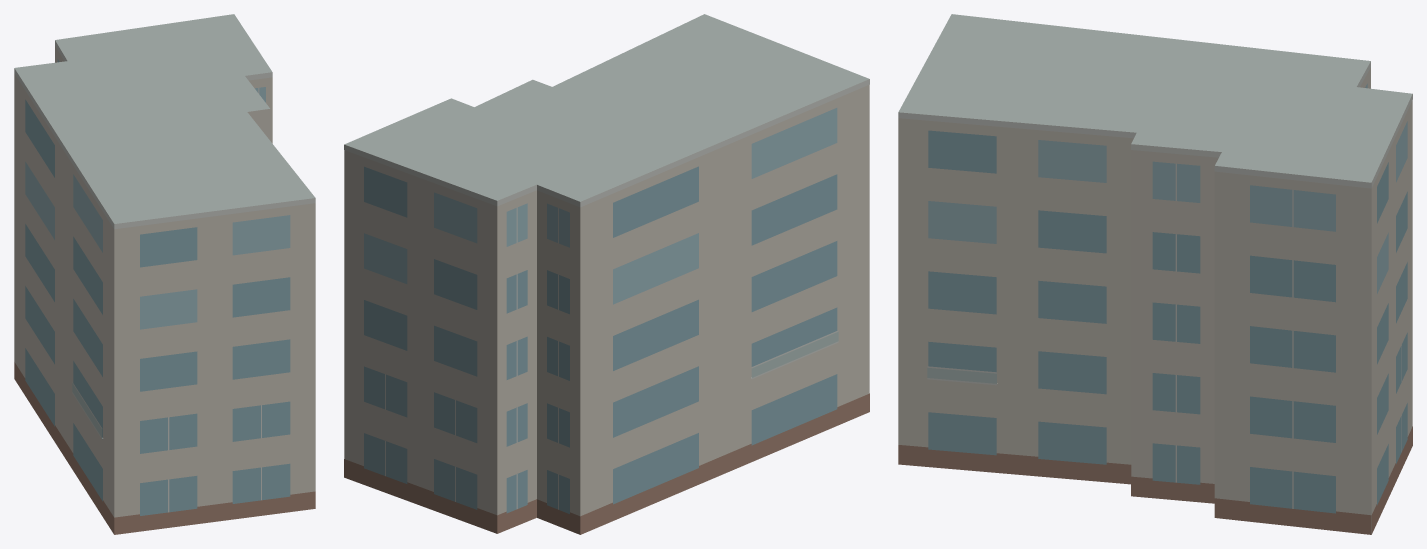
File: survey-upis-33043696.glb
3 views of the same model, side by side, from view 1: azimuth 30°, elevation 25°; view 2: azimuth 150°, elevation 25°; view 3: azimuth 270°, elevation 25° (orthographic). The views are drawn at different scales.
Visible parts, largest first — view 1: survey-upis-33043696.tmp; view 2: survey-upis-33043696.tmp; view 3: survey-upis-33043696.tmp.
Boxes of the visible parts, x1,y1,x2,y2 form: survey-upis-33043696.tmp: (14,14,315,534); survey-upis-33043696.tmp: (344,14,869,534); survey-upis-33043696.tmp: (898,14,1412,534).
Bounding box in the file's own units: 15.09 × 14.67 × 19.43.
